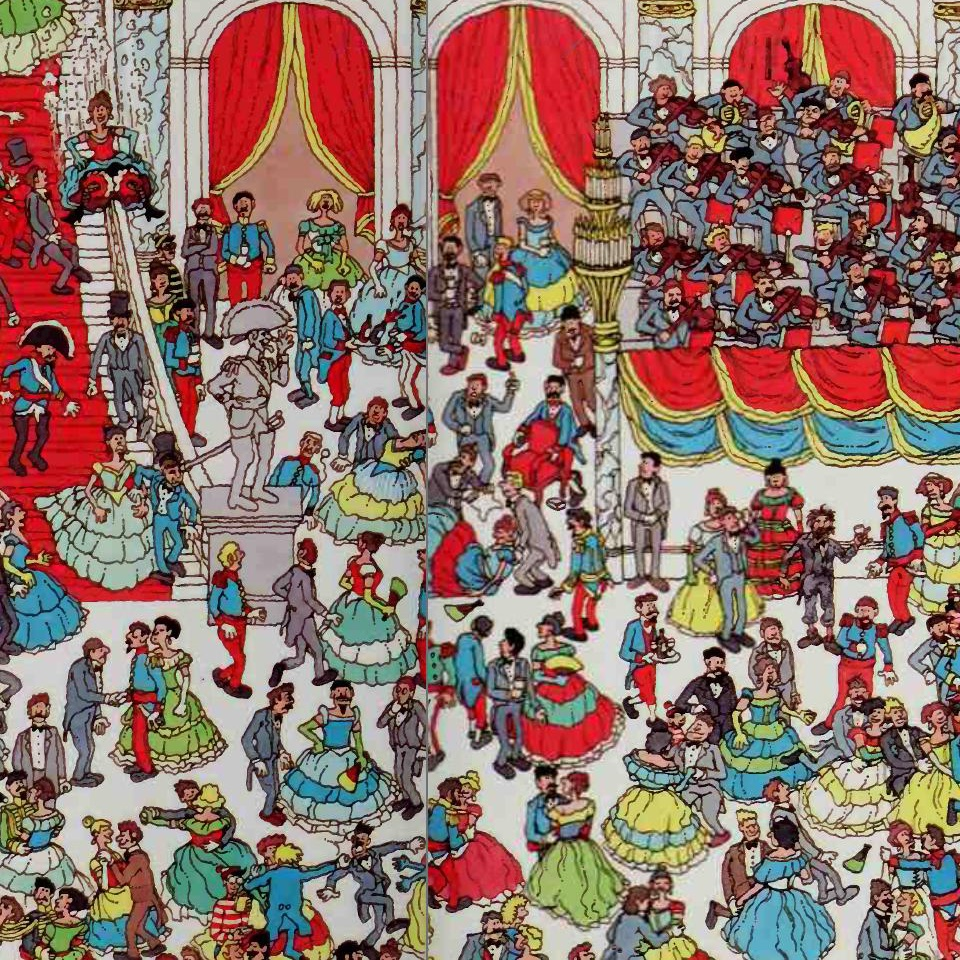waldo: (212, 864, 251, 940)
